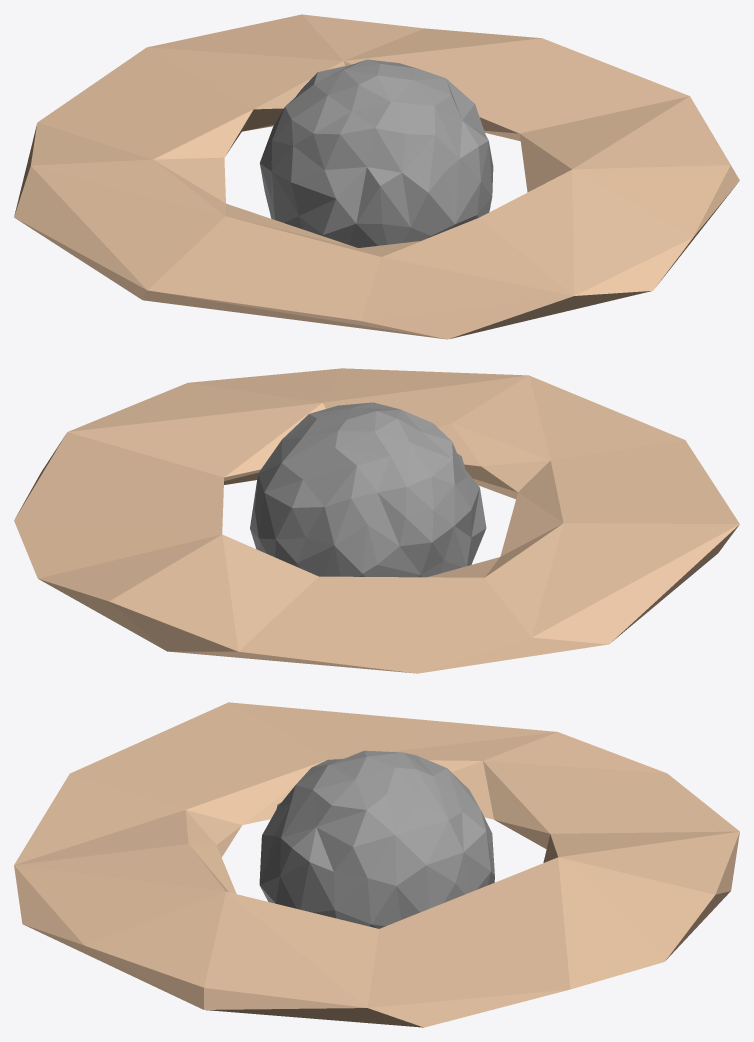
The model's file is ring_planet6.fbx.
3 renders of one model, top to bottom at view 1: azimuth 30°, elevation 25°; view 2: azimuth 150°, elevation 25°; view 3: azimuth 270°, elevation 25°, orthographic.
Parts seen in each view (by area): view 1: ring_planet6; view 2: ring_planet6; view 3: ring_planet6.
Part boxes in pixels (<box>): ring_planet6: <box>14,14,739,339</box>; ring_planet6: <box>14,368,739,673</box>; ring_planet6: <box>14,702,739,1027</box>.
Bounding box in the file's own units: 562 × 186 × 573.
